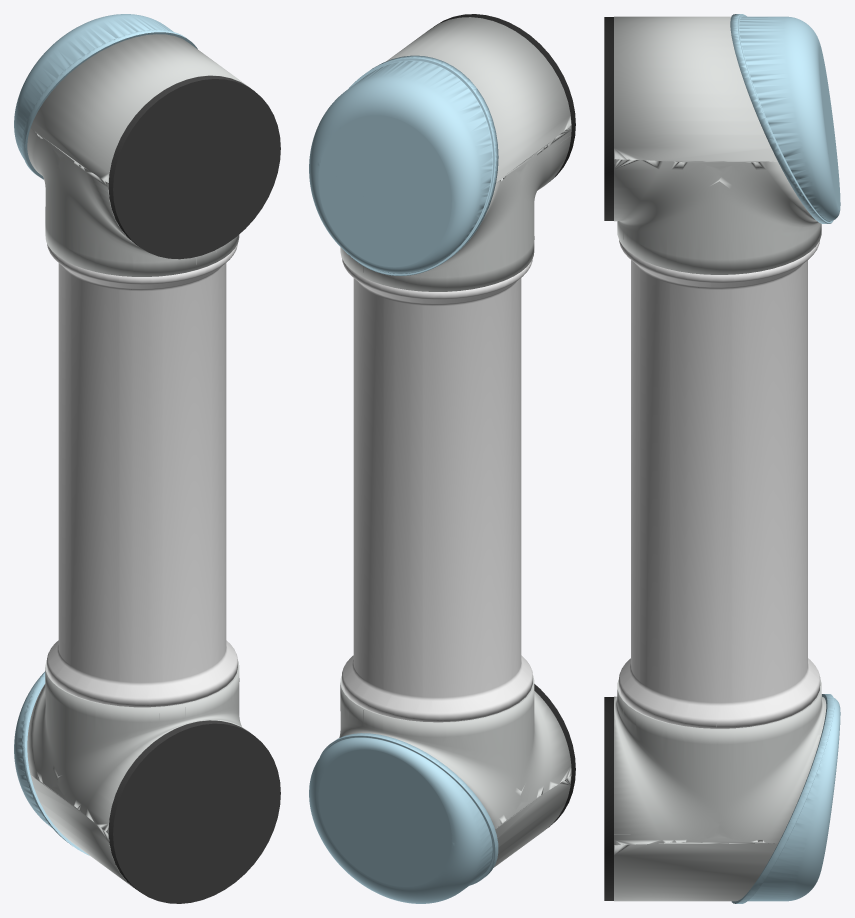
Rendered from upperarm.dae.
The picture shows the model from 3 angles, left to right: view 1: azimuth 30°, elevation 25°; view 2: azimuth 150°, elevation 25°; view 3: azimuth 270°, elevation 25°; orthographic projection. The views are drawn at different scales.
Parts seen in each view (by area): view 1: Actor3, Actor2, Actor0, Actor1, Actor4; view 2: Actor3, Actor1, Actor4, Actor2, Actor0; view 3: Actor3, Actor2, Actor0, Actor1, Actor4.
Boxes of the visible parts, x1,y1,x2,y2 form: Actor3: [46, 243, 237, 707]; Actor2: [27, 34, 280, 276]; Actor0: [27, 661, 280, 903]; Actor1: [14, 14, 197, 179]; Actor4: [14, 671, 89, 855]; Actor3: [342, 258, 532, 722]; Actor1: [309, 55, 498, 275]; Actor4: [309, 733, 498, 903]; Actor2: [340, 14, 575, 291]; Actor0: [339, 675, 575, 867]; Actor3: [618, 240, 820, 728]; Actor2: [604, 16, 821, 274]; Actor0: [604, 679, 826, 901]; Actor1: [730, 14, 840, 223]; Actor4: [731, 694, 840, 903].
Bounding box in the file's own units: 0.119 × 0.1337 × 0.544.
